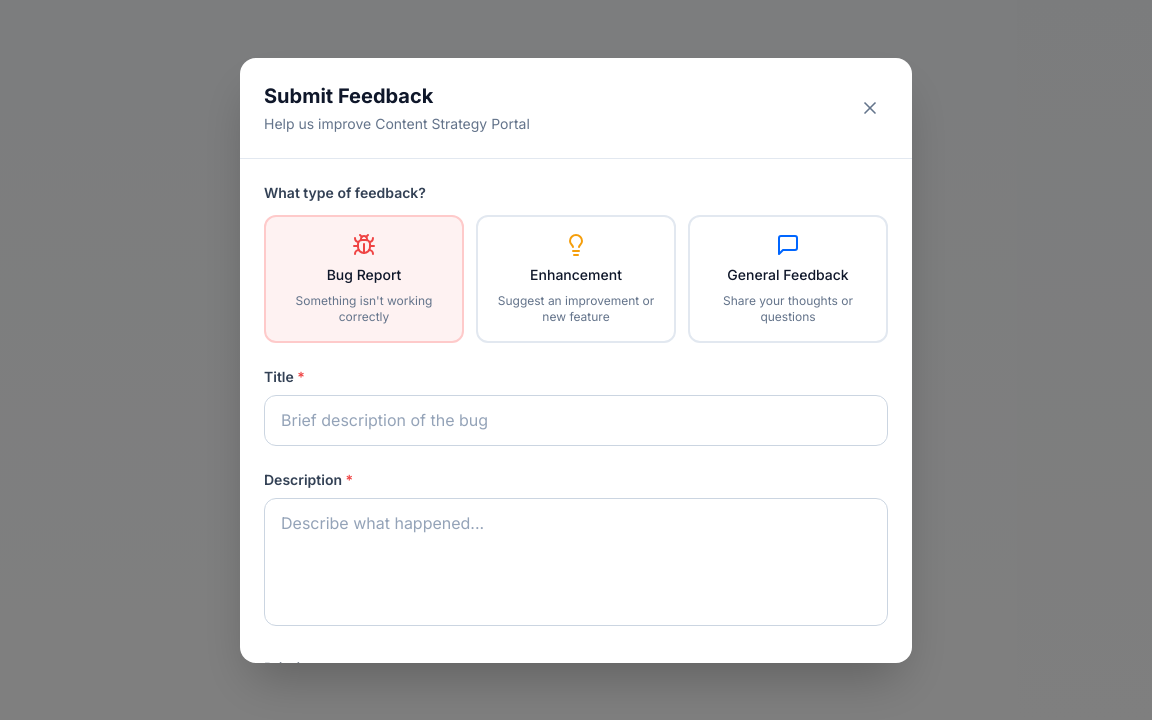
Test: FeedbackForm › feedback type selection › hides type-specific fields for General Feedback
The image size is (1152, 720).
Click the text "General Feedback" at (788, 274), box [727,264,849,284]
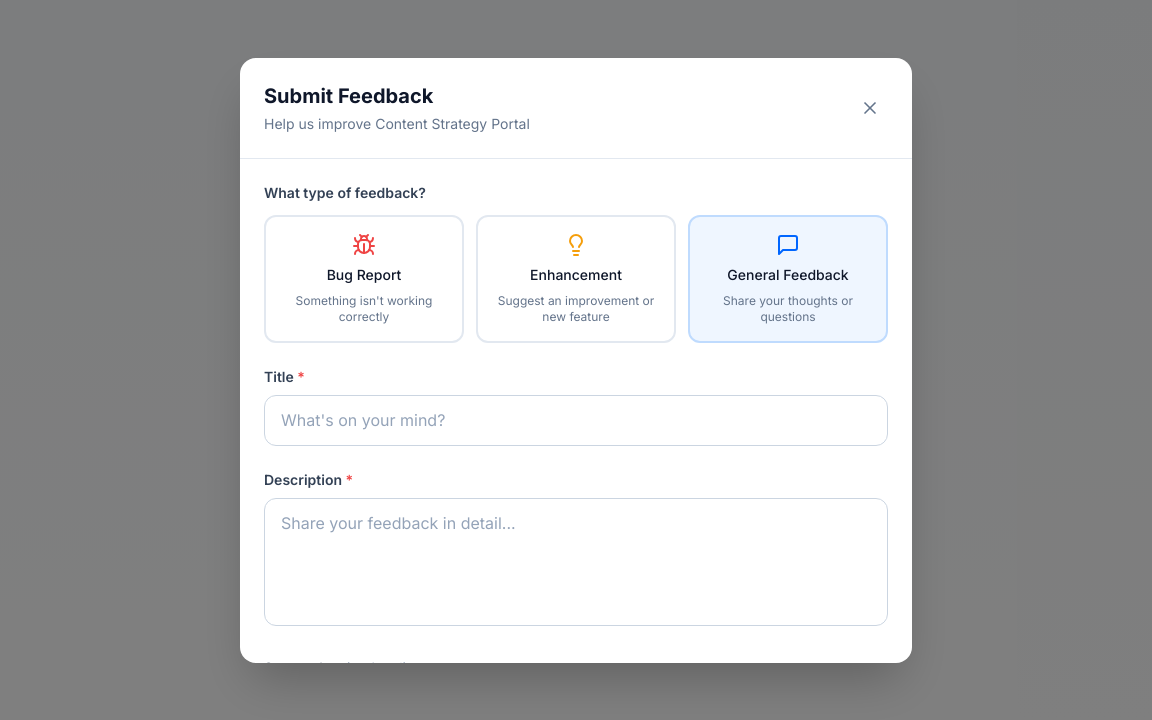
Check: the label labelled "Priority" is gone
